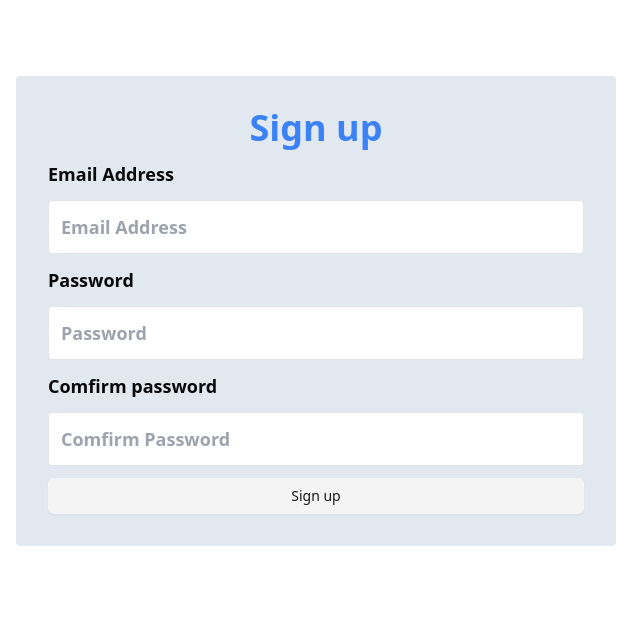
sign up › Should show error for empty field
This screenshot has width=633, height=623.
Click the submit button. click: [316, 496]
box: [48,478,584,514]
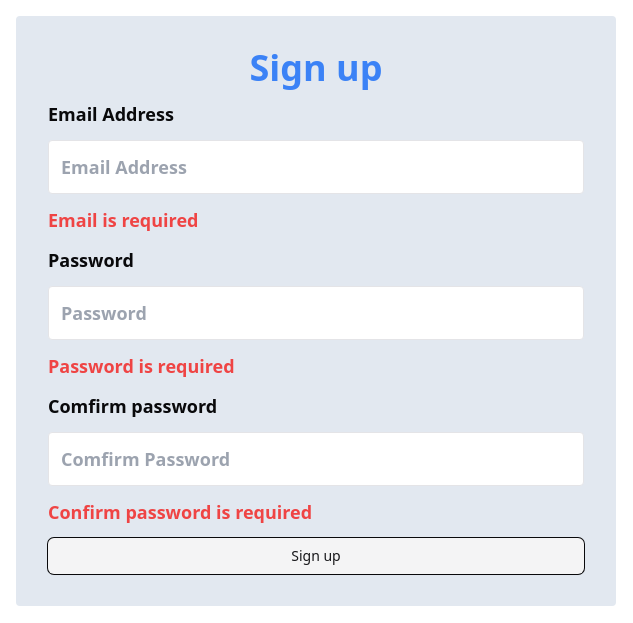
Check: the text "Email is required" is shown, box [48,208,198,232]
Check: the text "Password is required" is shown, box [48,354,235,378]
Check: the text "Confirm password is required" is shown, box [48,500,312,524]
